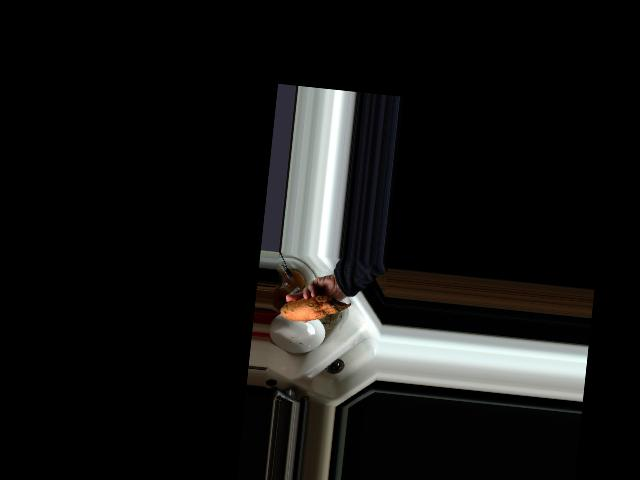sweet_potato: (279, 291, 352, 328)
